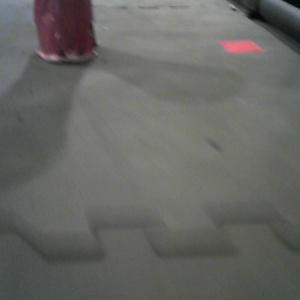Middle: (33, 1, 98, 61)
